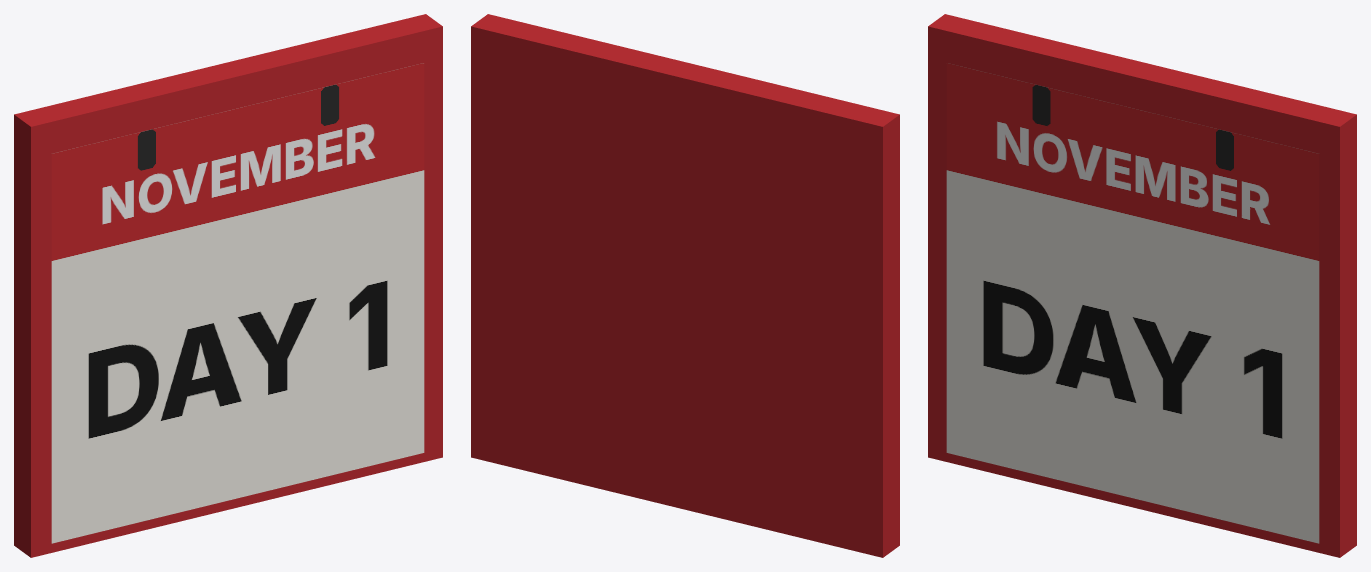
Rendered from calendar.glb.
3 renders of one model, left to right at view 1: azimuth 30°, elevation 25°; view 2: azimuth 150°, elevation 25°; view 3: azimuth 330°, elevation 25°, orthographic.
Visible parts, largest first — view 1: page, calendar; view 2: calendar; view 3: page, calendar.
Part boxes in pixels (x1,y1,x2,y2): page: (51,63,424,543); calendar: (14,14,442,557); calendar: (471,14,899,557); page: (946,63,1319,543); calendar: (928,14,1356,557).
Bounding box in the file's own units: 0.42 × 0.42 × 0.032.
Materials: 2 (1 with a texture image).
